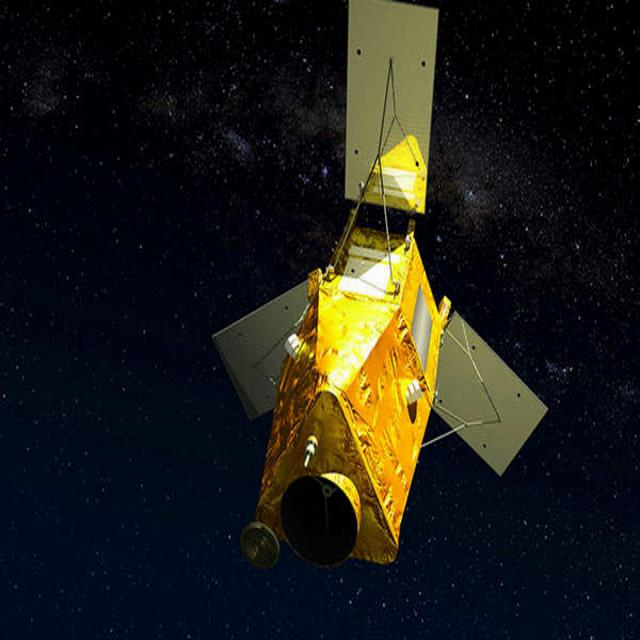medium_debris: (208, 0, 554, 590)
